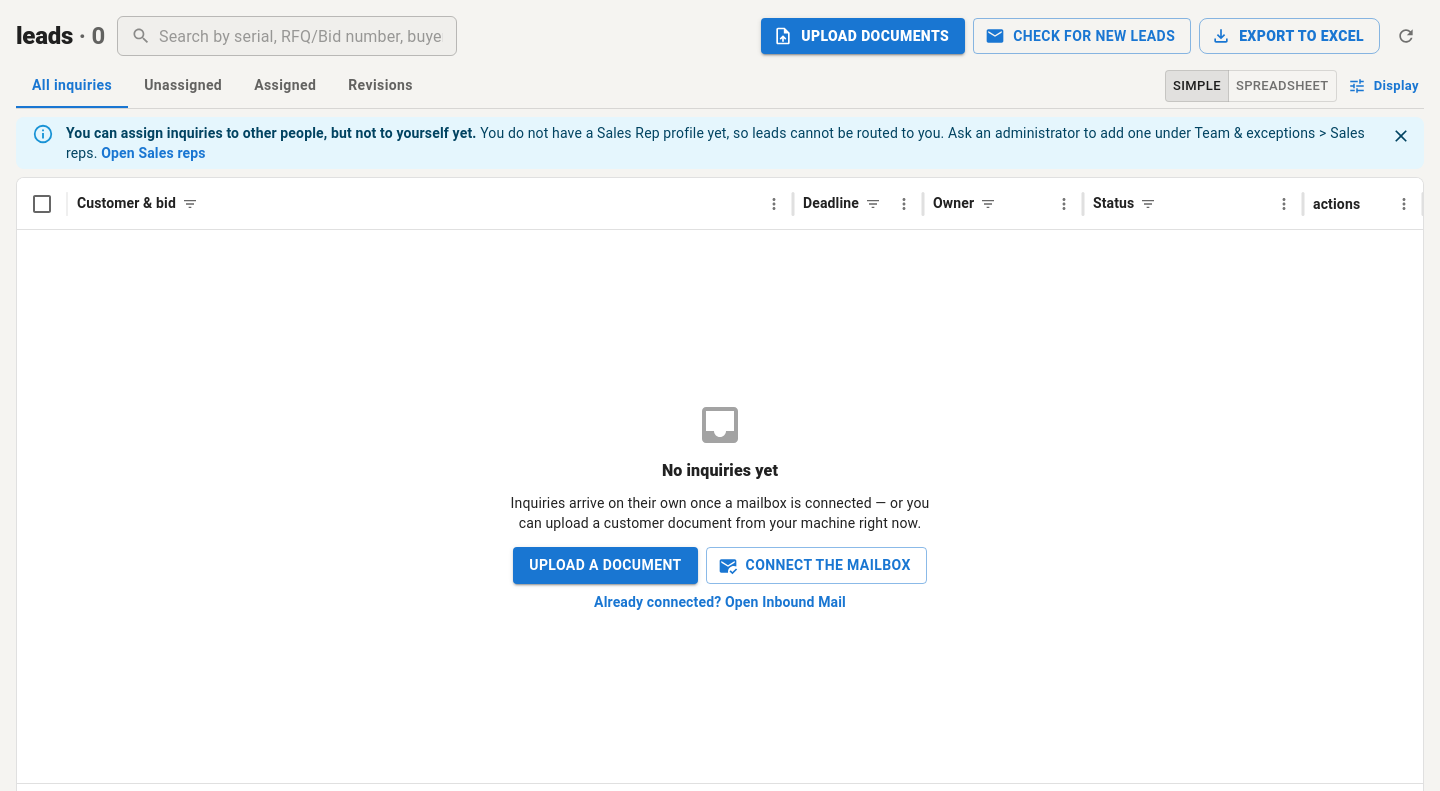
LeadsPage — the "no Sales Rep profile" notice › lets an administrator dismiss it, and remembers that
Check: the text "You do not have a Sales Rep profile yet" is shown, box [66,125,1365,161]
Click the button named "Dismiss this notice" at (1401,136), box [1386,121,1416,151]
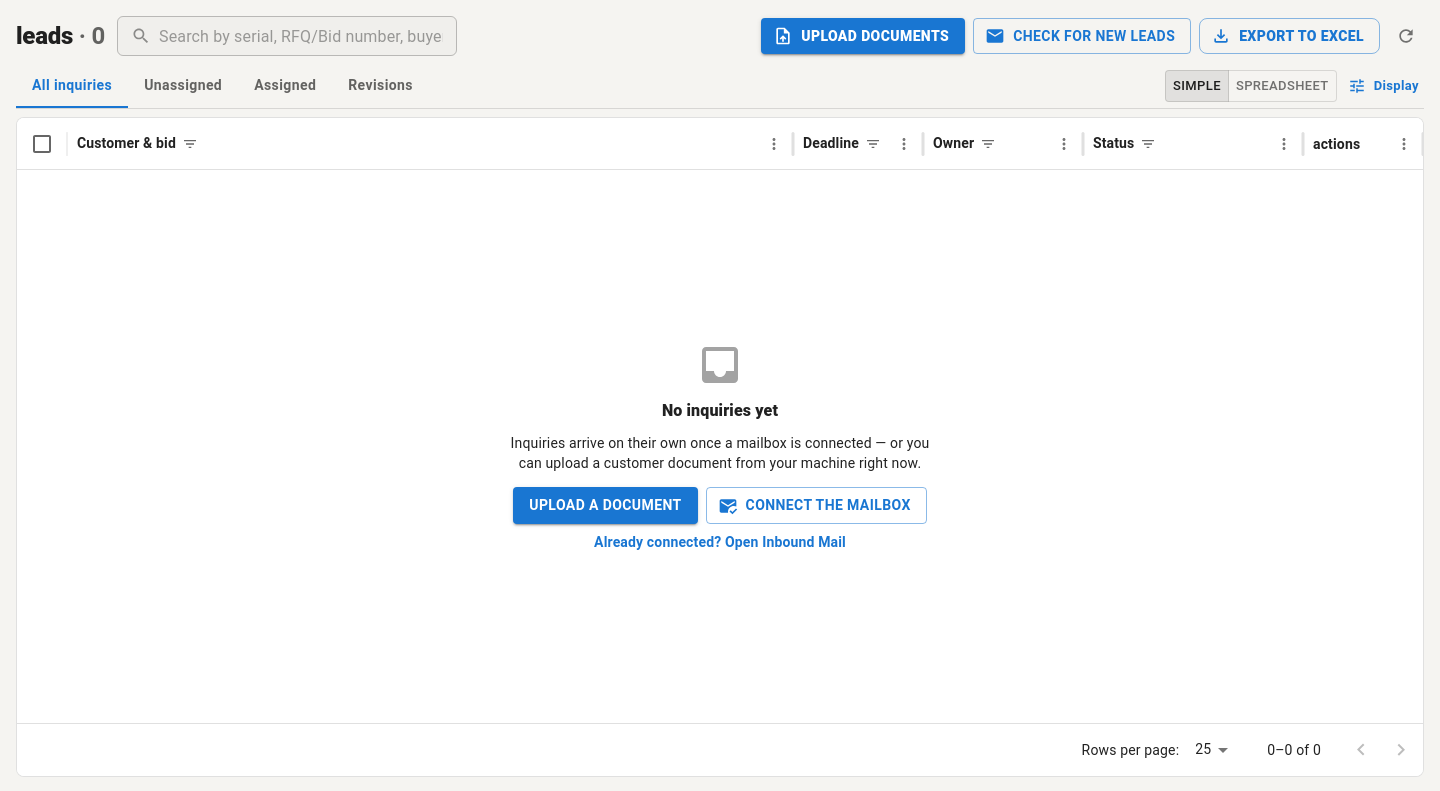
Check: the text "You do not have a Sales Rep profile yet" is gone
